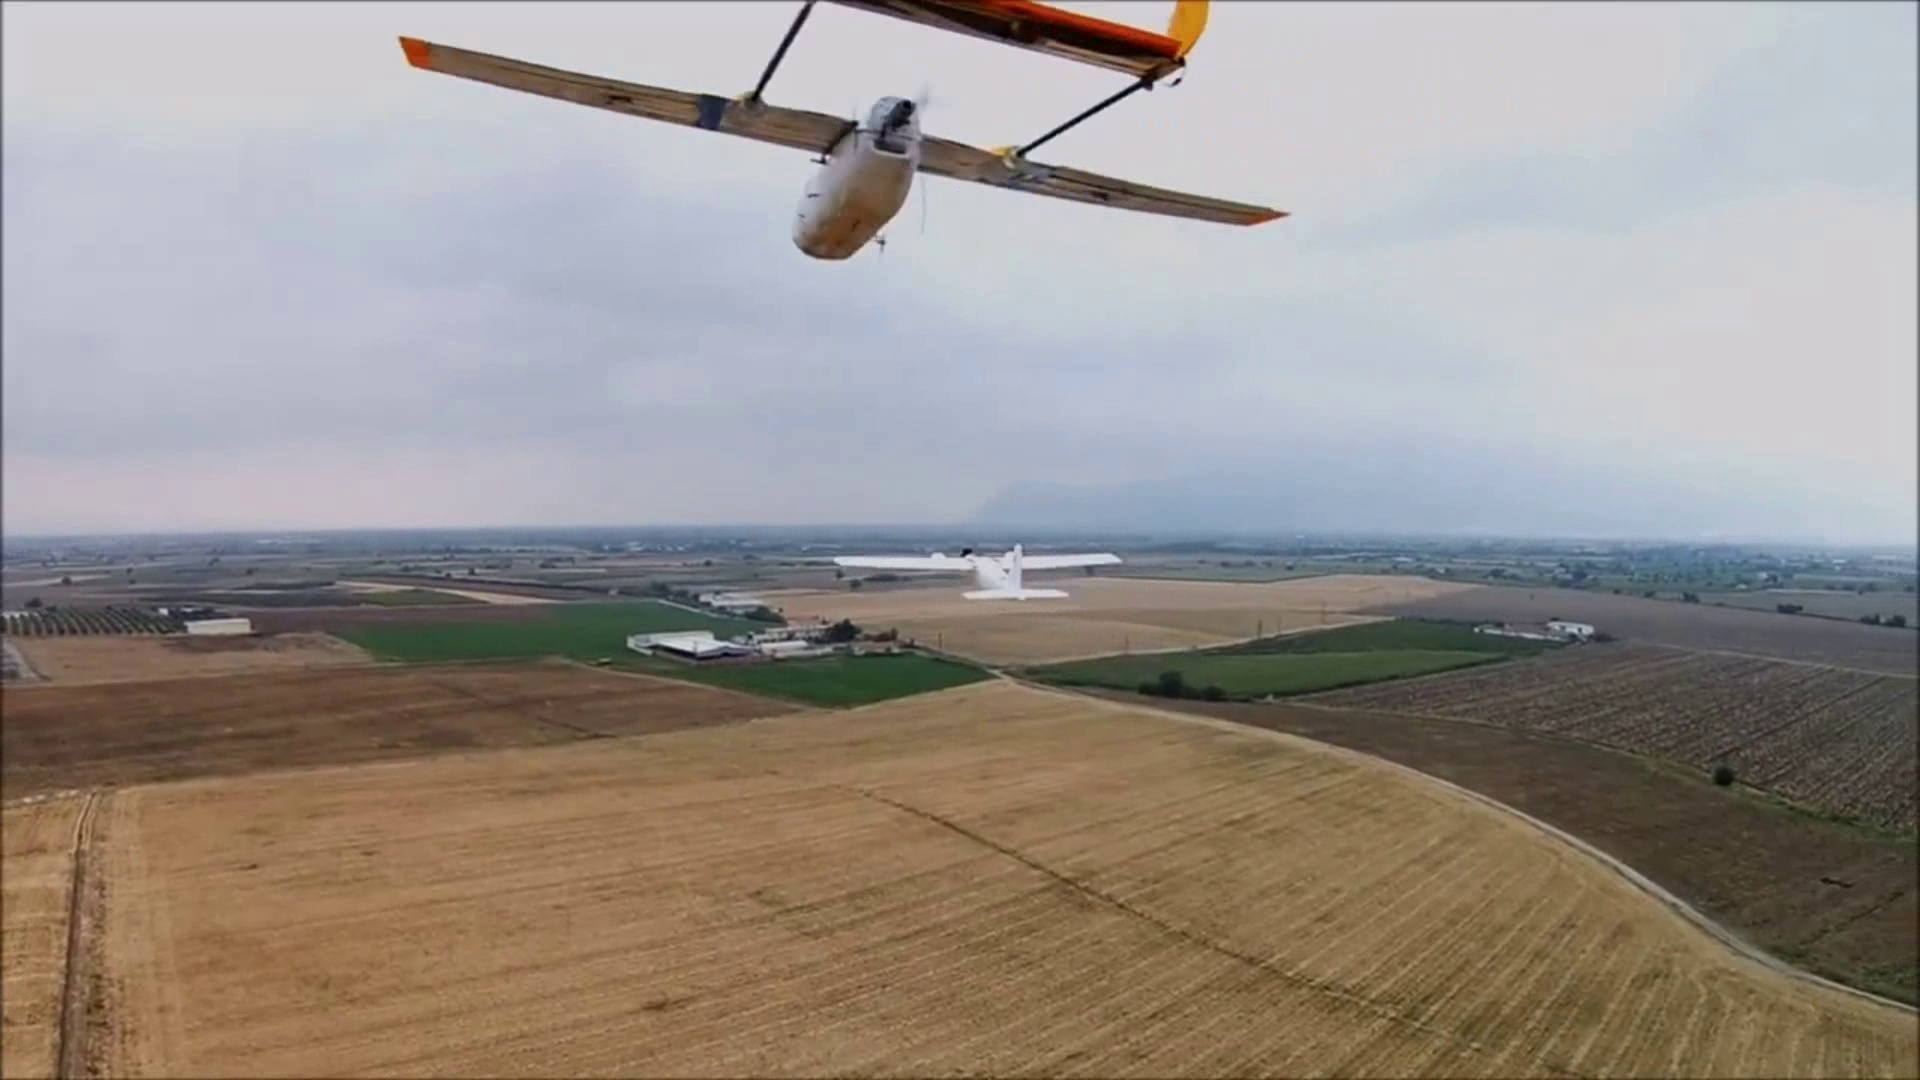airplane: (398, 5, 1288, 260)
